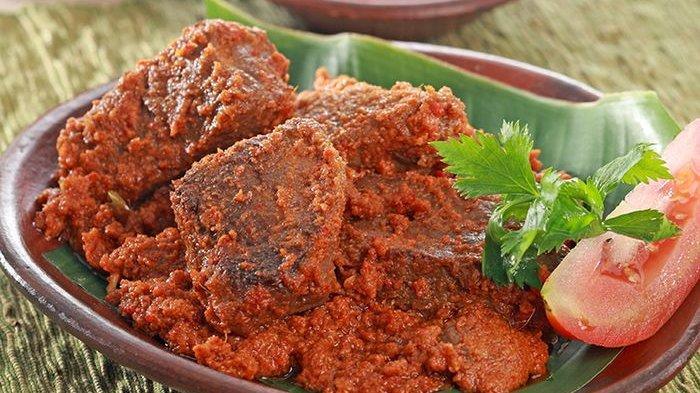rendang: (26, 15, 559, 391)
